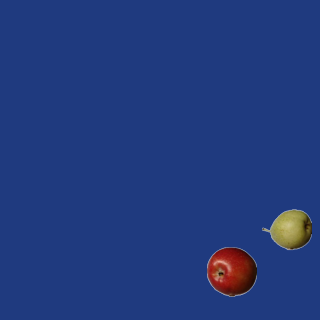Apple Braeburn: (206, 246, 256, 296)
Pear: (261, 204, 311, 254)
